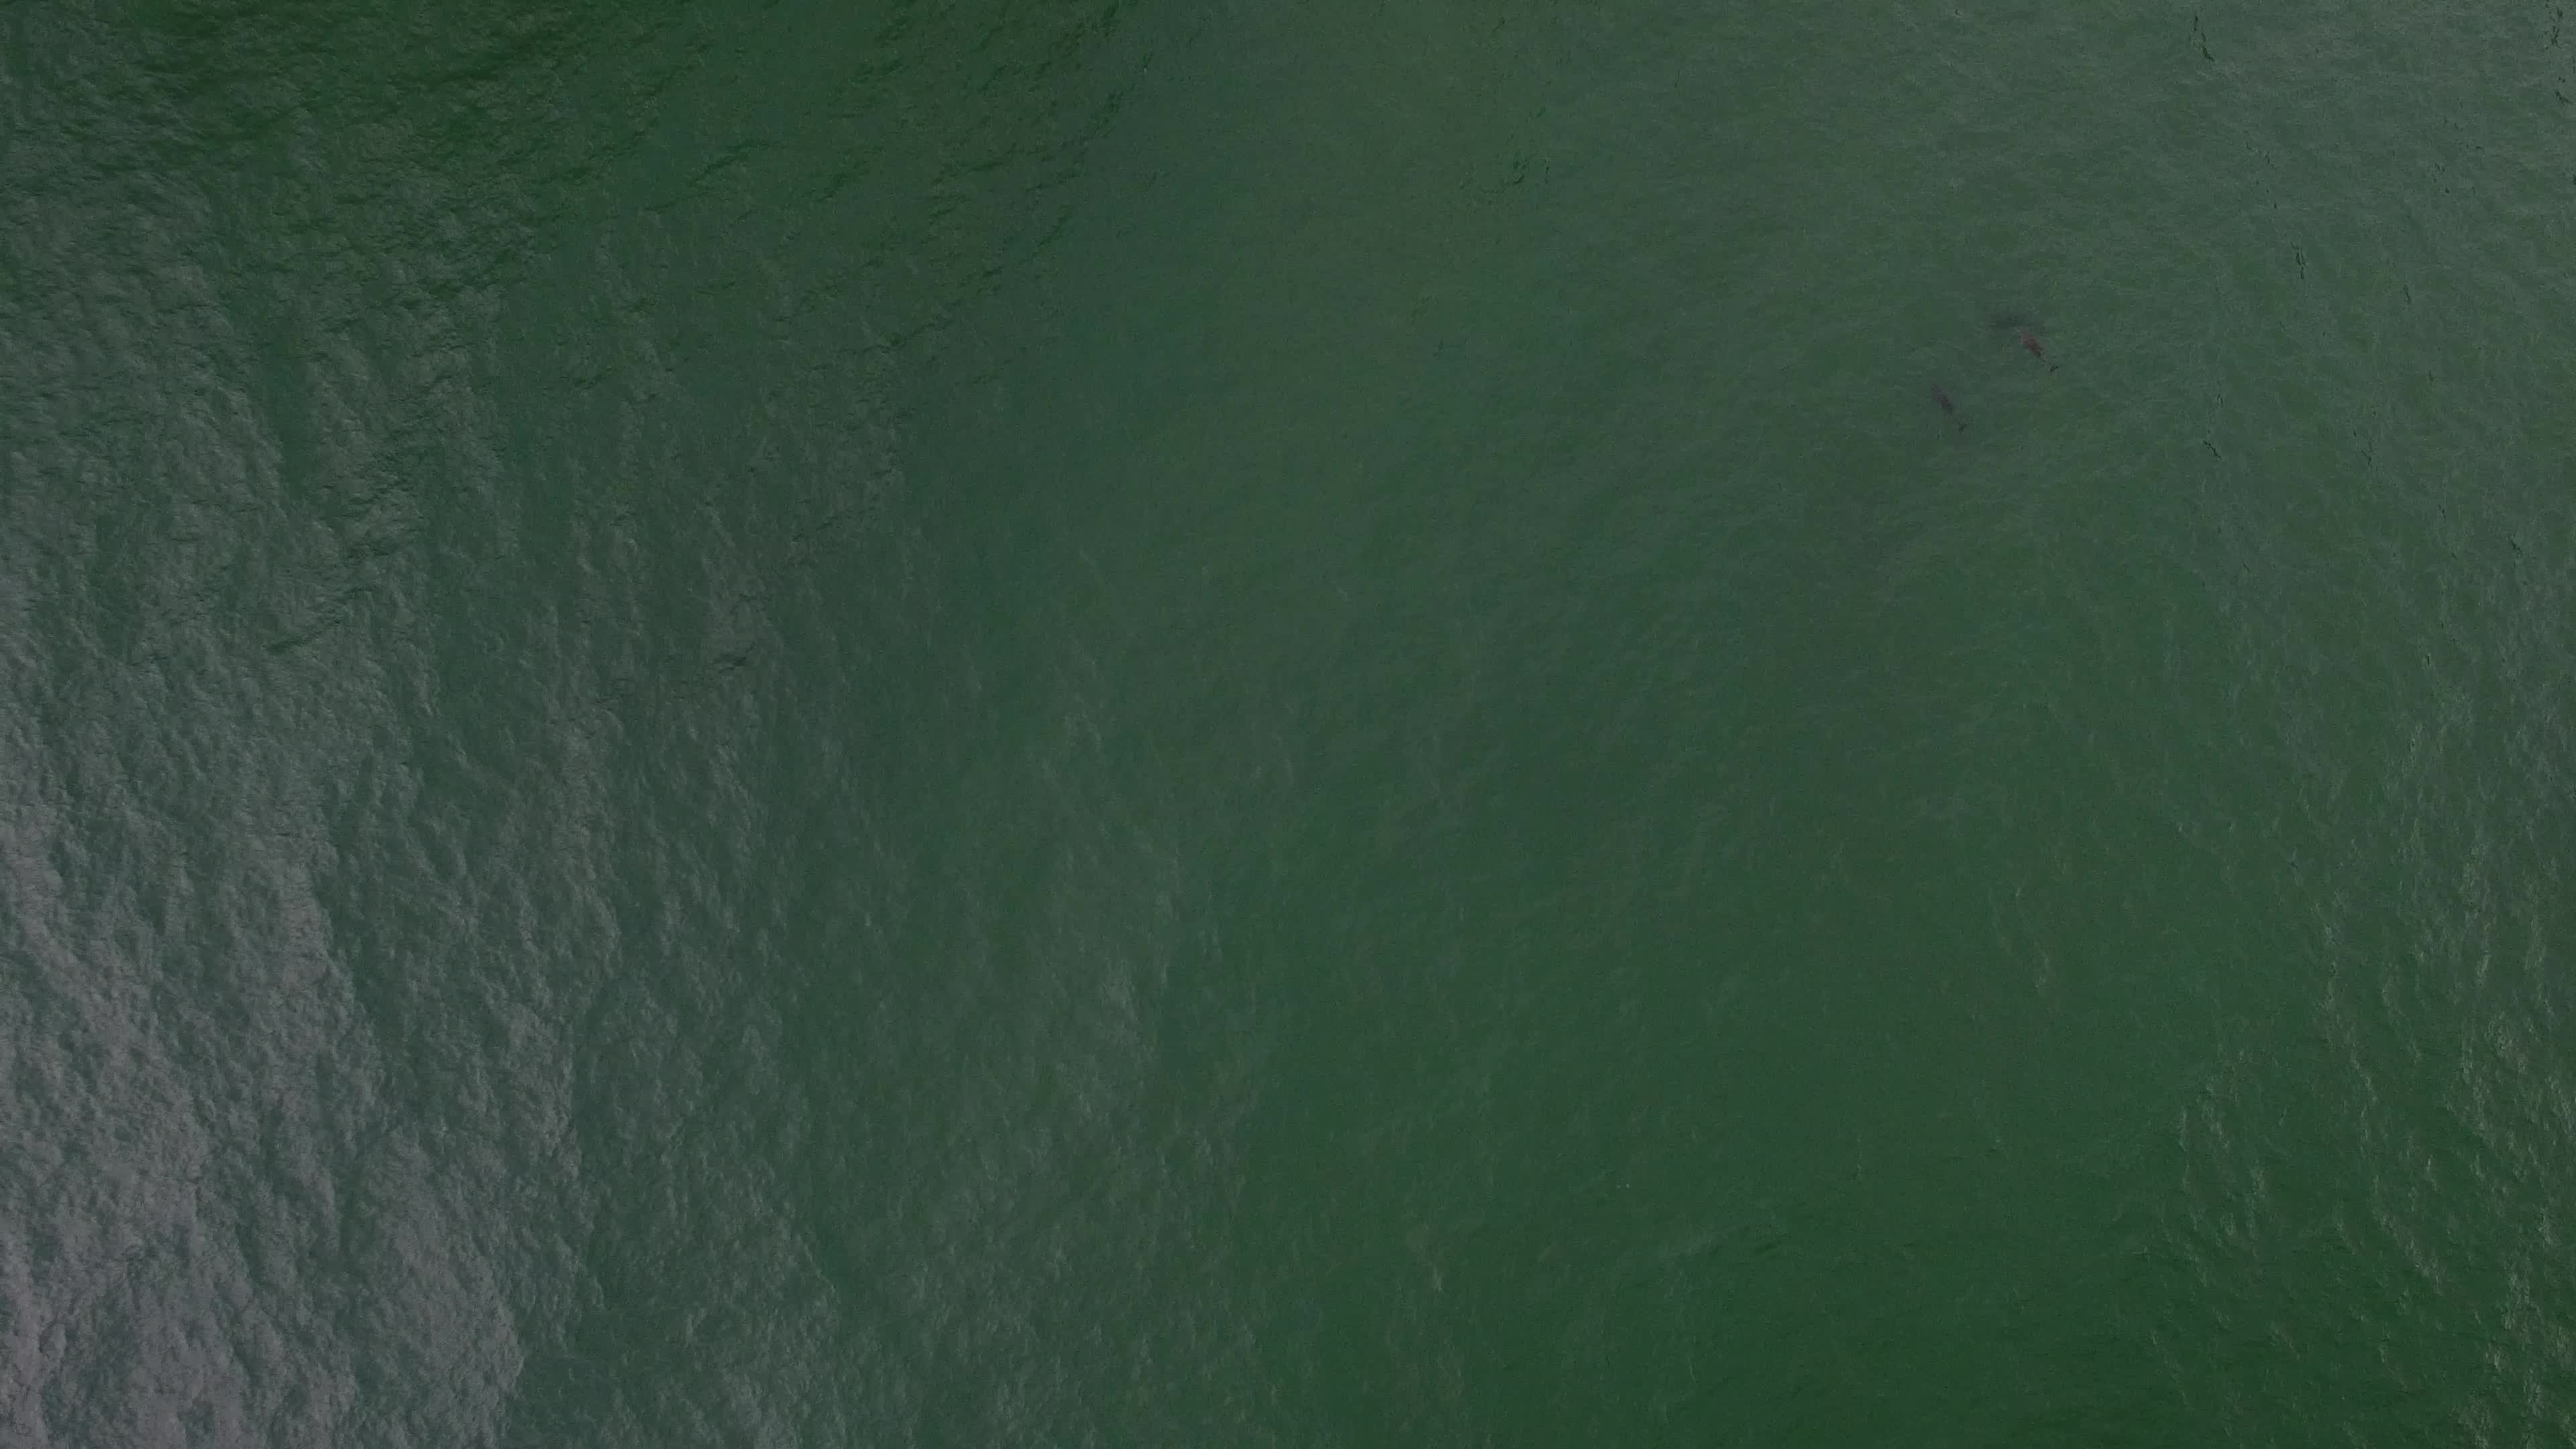dolphin: (1987, 304, 2070, 395), (1900, 359, 1971, 442)
